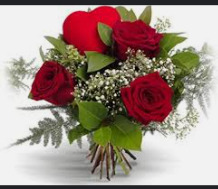RedRose: (117, 71, 176, 124), (26, 57, 79, 107), (110, 19, 165, 65)
